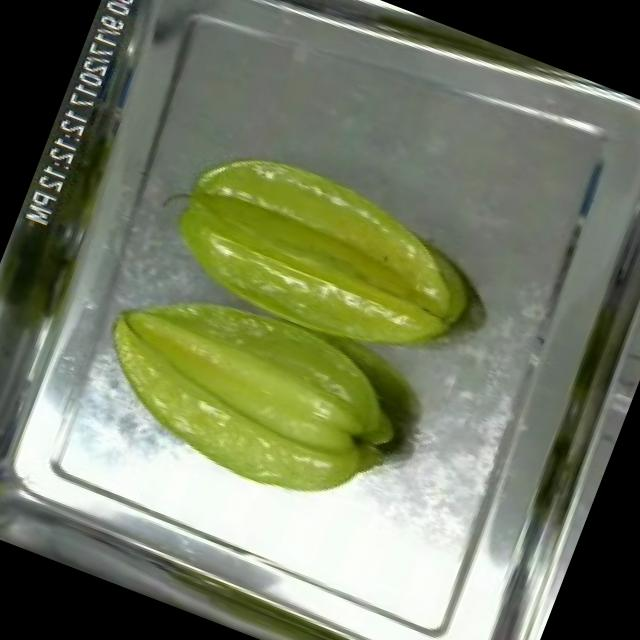fruit: (136, 110, 516, 408), (61, 246, 438, 539)
